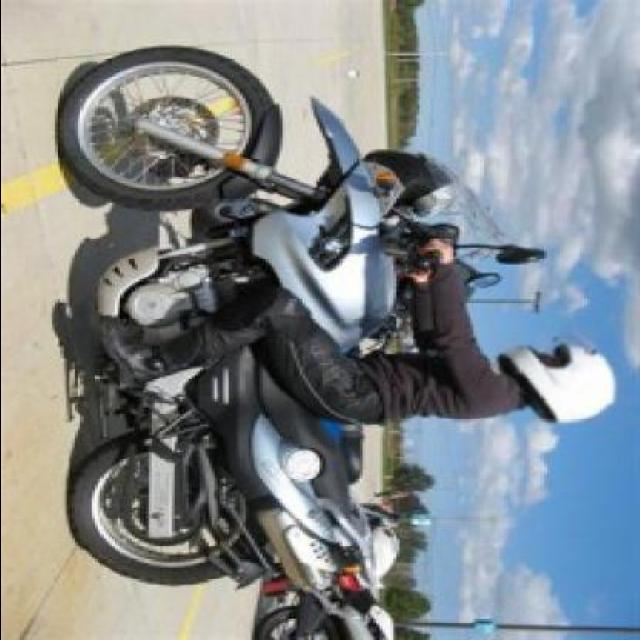With Helmet: (492, 328, 623, 436)
